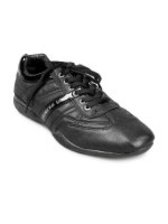shoes: (9, 52, 157, 157)
